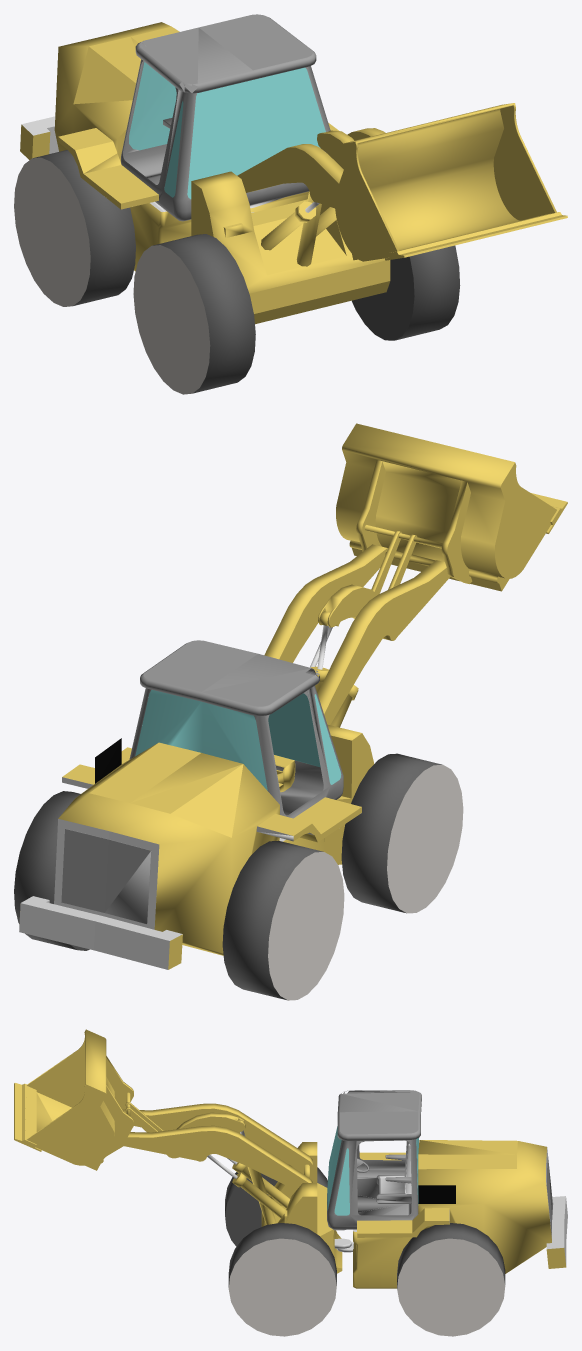
Rendered from loader_draco.glb.
The picture shows the model from 3 angles, top to bottom: view 1: azimuth 30°, elevation 25°; view 2: azimuth 150°, elevation 25°; view 3: azimuth 270°, elevation 25°; orthographic projection. The views are drawn at different scales.
Visible parts, largest first — view 1: Model; view 2: Model; view 3: Model.
Boxes of the visible parts, bbox=[...] form: Model: bbox=[14, 14, 567, 394]; Model: bbox=[14, 423, 567, 1000]; Model: bbox=[14, 1029, 567, 1336].
Bounding box in the file's own units: 6.75 × 8.6 × 18.19.
